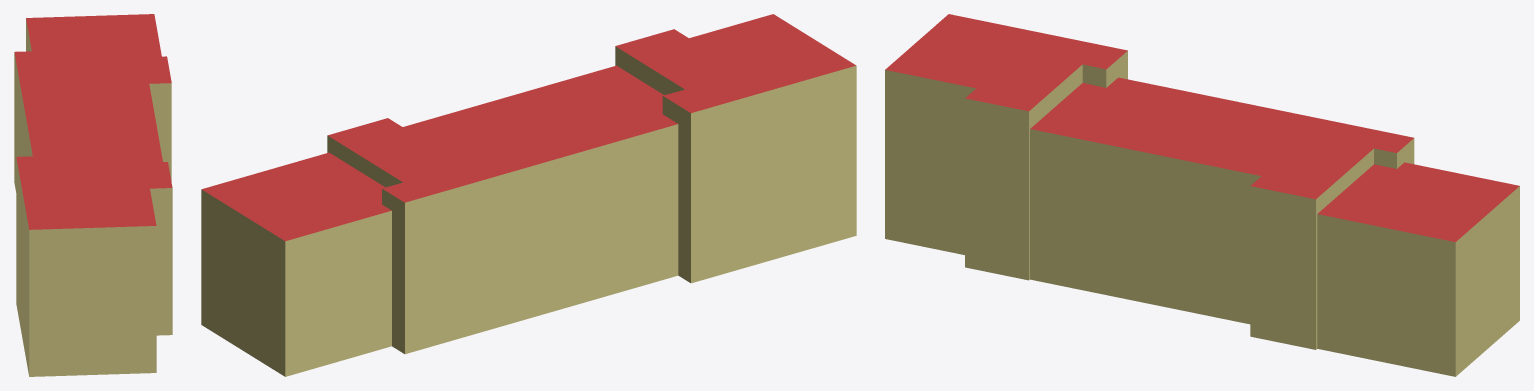
The picture shows the model from 3 angles, left to right: view 1: azimuth 30°, elevation 25°; view 2: azimuth 150°, elevation 25°; view 3: azimuth 270°, elevation 25°; orthographic projection. The views are drawn at different scales.
Parts seen in each view (by area): view 1: group_7, group_3, group_6, group_9, group_4; view 2: group_4, group_7, group_10, group_3, group_6, group_9; view 3: group_4, group_10, group_7, group_3, group_6, group_9.
Part boxes in pixels (x1,y1,x2,y2): group_7: [16, 158, 172, 376]; group_3: [14, 50, 171, 165]; group_6: [16, 155, 172, 229]; group_9: [26, 14, 161, 59]; group_4: [14, 52, 171, 192]; group_4: [327, 124, 678, 354]; group_7: [615, 46, 856, 283]; group_10: [201, 189, 391, 376]; group_3: [328, 65, 677, 202]; group_6: [615, 14, 855, 112]; group_9: [202, 152, 391, 241]; group_4: [1030, 129, 1414, 349]; group_10: [1317, 186, 1519, 376]; group_7: [885, 51, 1127, 280]; group_3: [1030, 77, 1413, 199]; group_6: [885, 14, 1127, 111]; group_9: [1318, 162, 1519, 241].
Size of the model in its own units: 35.16 by 48.65 by 14.3.
